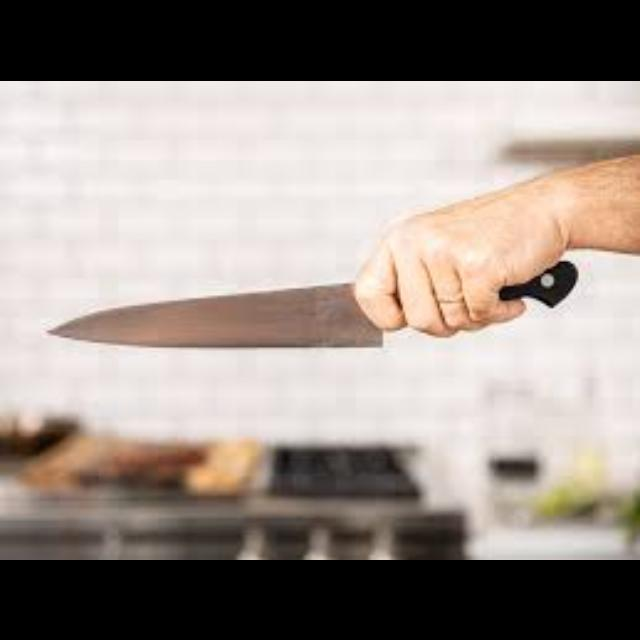Knife: (45, 258, 578, 346)
Person: (344, 141, 640, 407)
Weapon Holding: (363, 215, 552, 329)
